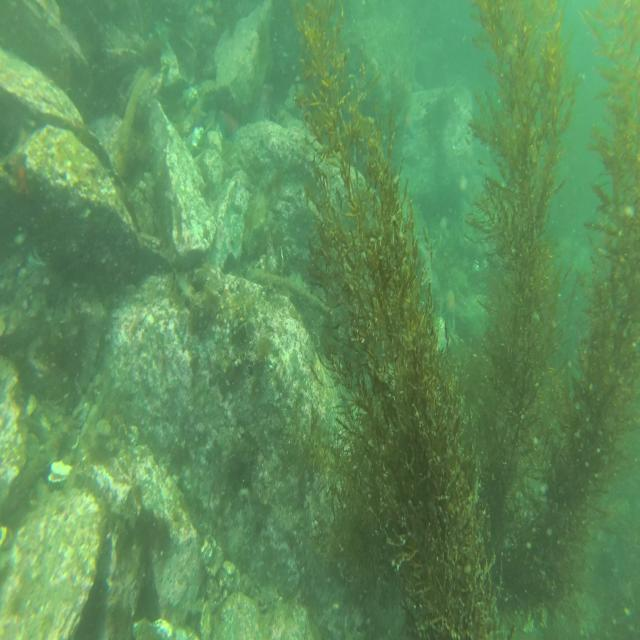scallop: (47, 456, 73, 487)
starfish: (442, 284, 460, 336)
